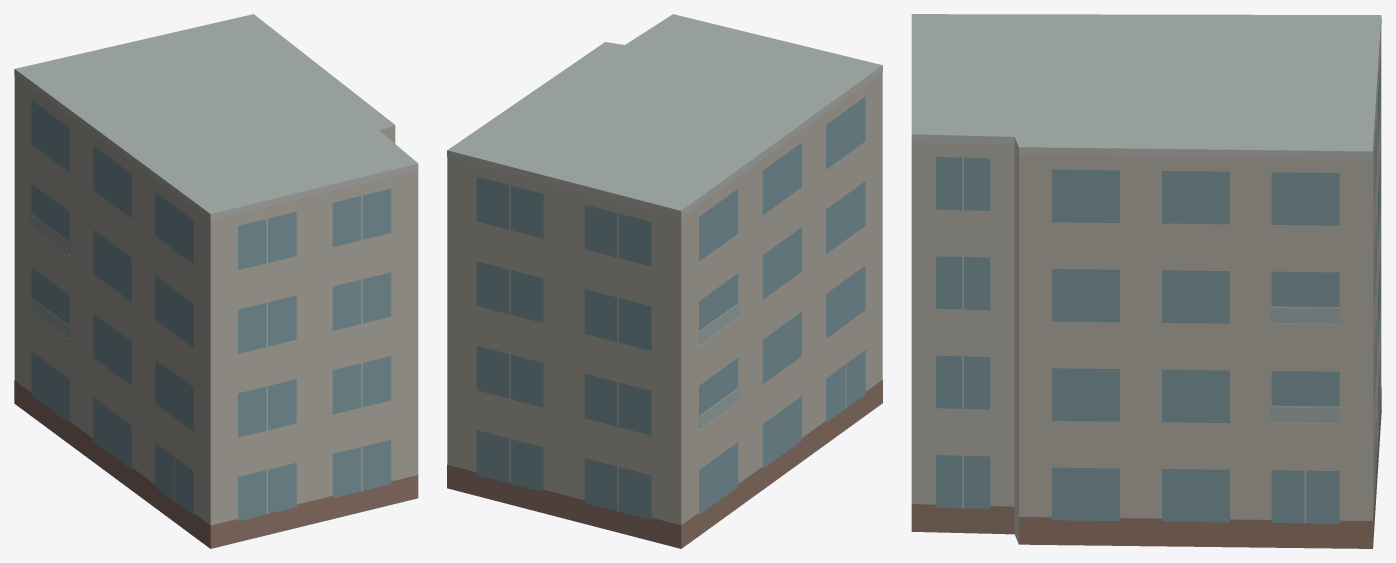
File: survey-upis-33041904.glb
3 views of the same model, side by side, from view 1: azimuth 30°, elevation 25°; view 2: azimuth 150°, elevation 25°; view 3: azimuth 270°, elevation 25° (orthographic). The views are drawn at different scales.
Visible parts, largest first — view 1: survey-upis-33041904.tmp; view 2: survey-upis-33041904.tmp; view 3: survey-upis-33041904.tmp.
Part boxes in pixels (x1=…): survey-upis-33041904.tmp: x1=14, y1=14, x2=418, y2=548; survey-upis-33041904.tmp: x1=447, y1=14, x2=882, y2=548; survey-upis-33041904.tmp: x1=911, y1=14, x2=1381, y2=548.
Bounding box in the file's own units: 9.22 × 12.4 × 13.3.
